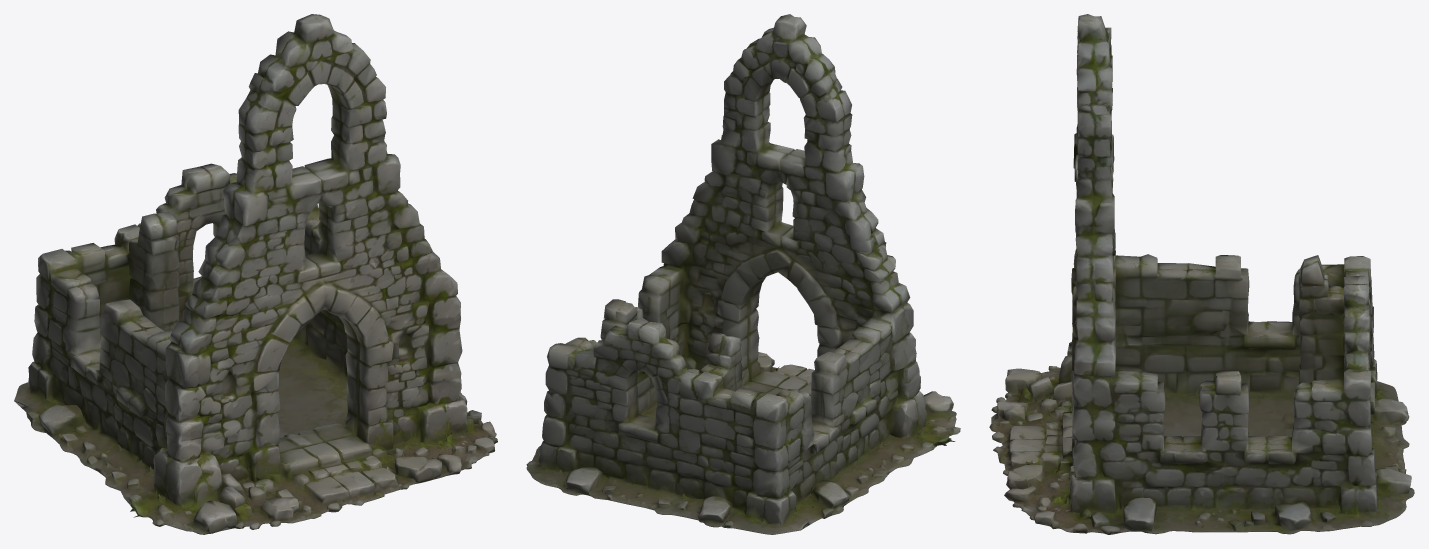
The model's file is chapel_ruin_tripo.glb.
3 views of the same model, side by side, from view 1: azimuth 30°, elevation 25°; view 2: azimuth 150°, elevation 25°; view 3: azimuth 270°, elevation 25° (orthographic). The views are drawn at different scales.
Visible parts, largest first — view 1: tripo_node_11228616-8ec0-468b-881a-92d8564db83a; view 2: tripo_node_11228616-8ec0-468b-881a-92d8564db83a; view 3: tripo_node_11228616-8ec0-468b-881a-92d8564db83a.
Boxes of the visible parts, x1,y1,x2,y2 form: tripo_node_11228616-8ec0-468b-881a-92d8564db83a: (14, 14, 497, 534); tripo_node_11228616-8ec0-468b-881a-92d8564db83a: (526, 14, 960, 534); tripo_node_11228616-8ec0-468b-881a-92d8564db83a: (989, 14, 1414, 534).
Size of the model in its own units: 0.8484 by 1 by 0.8888.
Materials: 1 (1 with a texture image).
